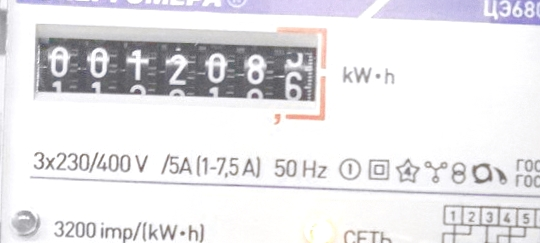0: (86, 42, 110, 80), (203, 49, 229, 84), (48, 41, 69, 79)
1: (127, 45, 145, 82)
2: (164, 51, 191, 86)
6: (281, 66, 305, 102)
8: (242, 50, 266, 87)
screen: (22, 11, 337, 135)
